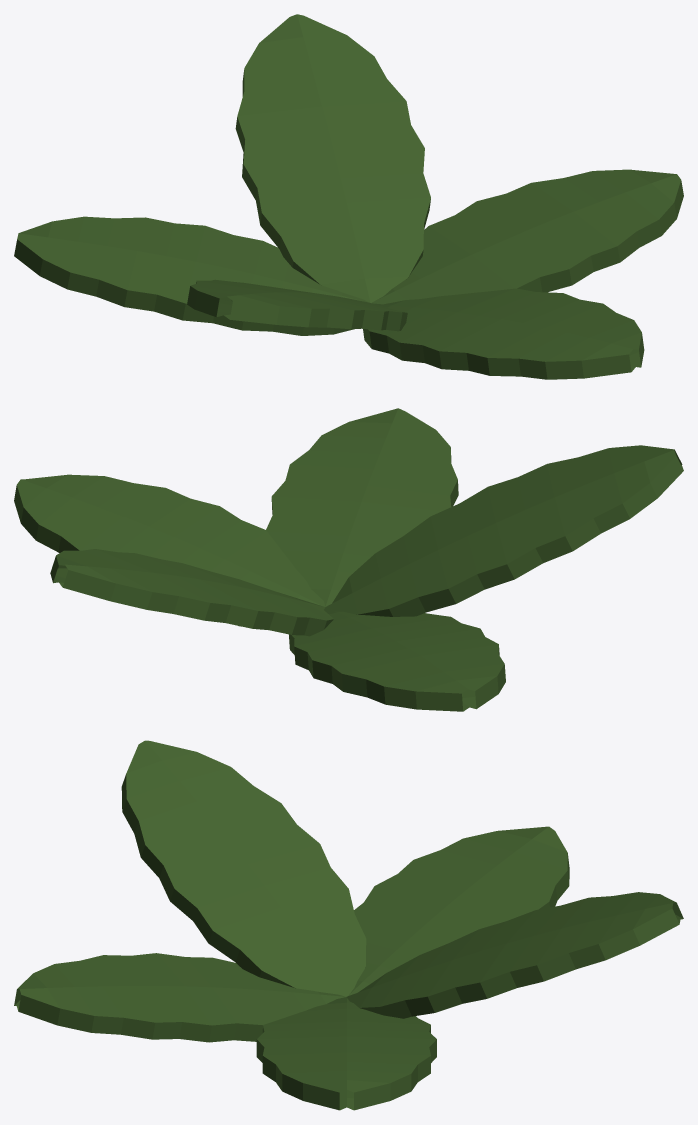
3 views of the same model, one above another, from view 1: azimuth 30°, elevation 25°; view 2: azimuth 150°, elevation 25°; view 3: azimuth 270°, elevation 25° (orthographic). The views are drawn at different scales.
Visible parts, largest first — view 1: canopy-forest-leaves · evaluated preview mesh; view 2: canopy-forest-leaves · evaluated preview mesh; view 3: canopy-forest-leaves · evaluated preview mesh.
Part boxes in pixels (x1,y1,x2,y2): canopy-forest-leaves · evaluated preview mesh: (14, 14, 683, 379); canopy-forest-leaves · evaluated preview mesh: (14, 408, 683, 711); canopy-forest-leaves · evaluated preview mesh: (14, 740, 683, 1110).
Bounding box in the file's own units: 1.2 × 0.3299 × 1.26.
